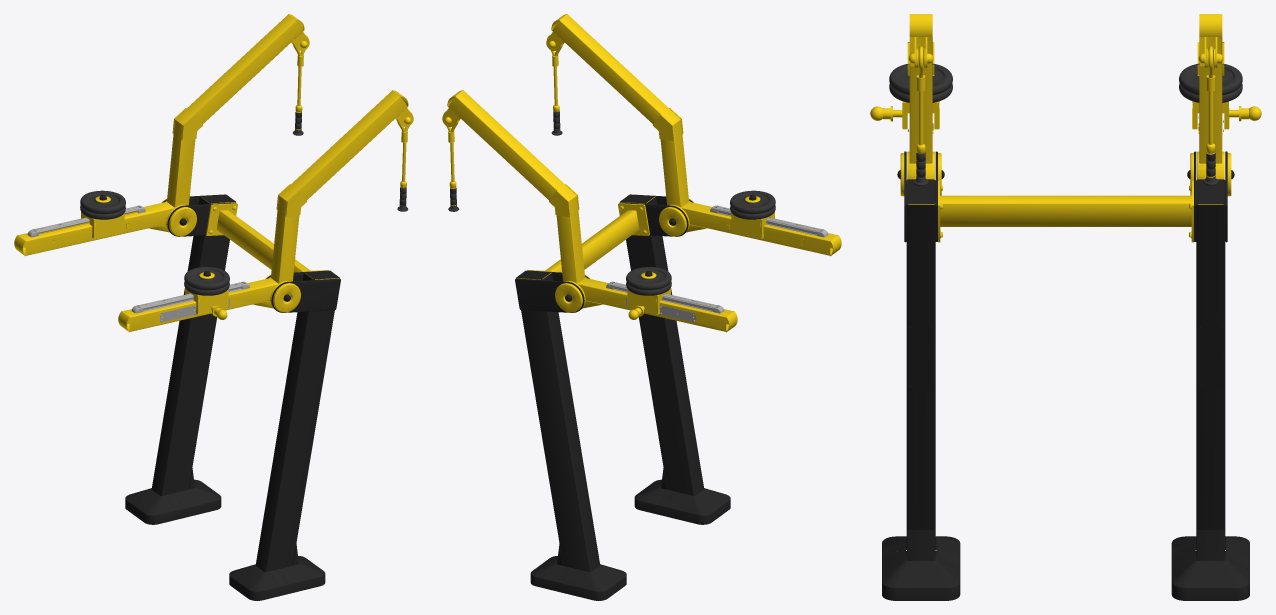
The picture shows the model from 3 angles, left to right: view 1: azimuth 30°, elevation 25°; view 2: azimuth 150°, elevation 25°; view 3: azimuth 270°, elevation 25°; orthographic projection. The views are drawn at different scales.
Parts seen in each view (by area): view 1: Geom3D (×3), Geom3D_004.STL#1; view 2: Geom3D (×3), Geom3D_004.STL#1; view 3: Geom3D (×2), Geom3D_004.STL#1.
Boxes of the visible parts, left/top/right/bottom form: Geom3D (×3): left=27, top=112, right=408, bottom=600; Geom3D_004.STL#1: left=14, top=14, right=413, bottom=332; Geom3D (×3): left=448, top=111, right=828, bottom=600; Geom3D_004.STL#1: left=442, top=14, right=841, bottom=332; Geom3D (×2): left=882, top=63, right=1249, bottom=600; Geom3D_004.STL#1: left=870, top=14, right=1261, bottom=242.
Bounding box in the file's own units: 1.61 × 2.45 × 1.35.
